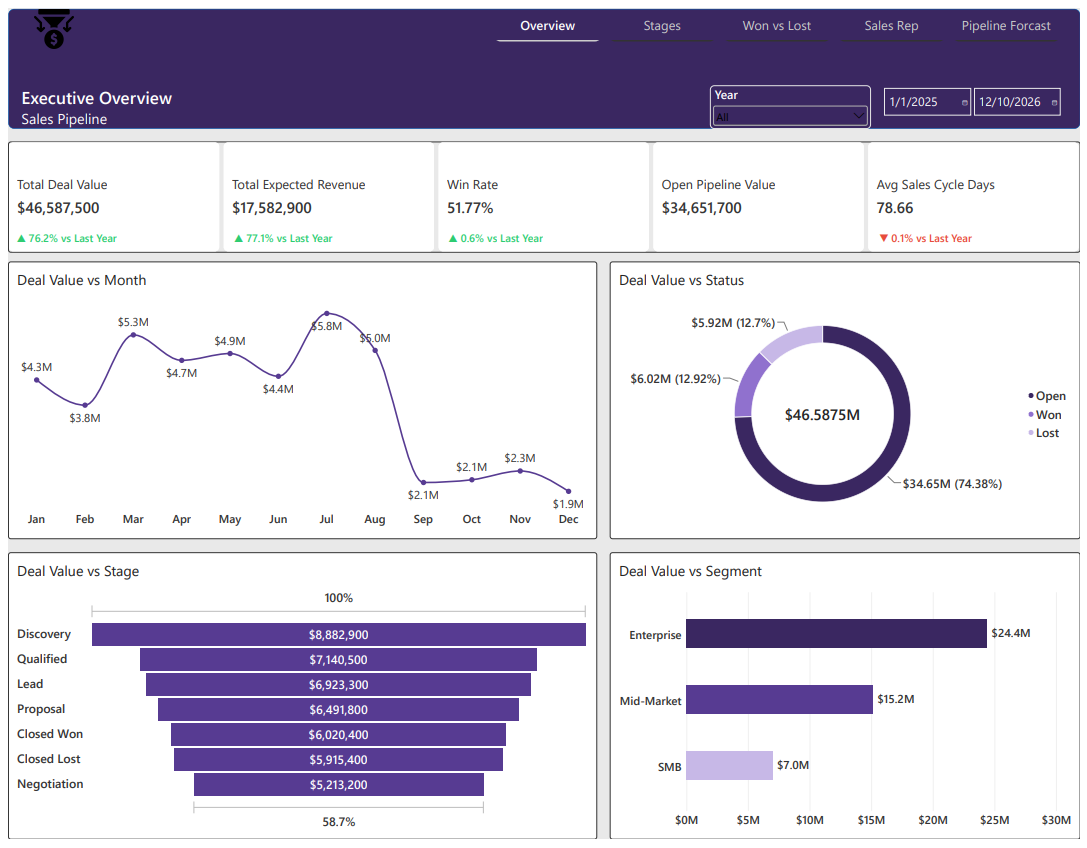

Layout of this report page (visuals, bound fields, positions):
{"tool":"powerbi","page":{"name":"Overview","canvas":[2000,1550],"ordinal":0},"visuals":[{"type":"shape","box":[0,0,2000.5,223.6],"z":0},{"type":"image","box":[0,2.5,169.6,71.3],"z":1000},{"type":"textbox","box":[24.6,142.5,464.5,81.1],"z":2000},{"type":"pageNavigator","box":[904.4,0,1064.2,61.4],"z":3000},{"type":"cardVisual","fields":{"Data":["Measure.Total Deal Value","Measure.Total Expected Revenue","Measure.Win Rate","Measure.Open Pipeline Value","Measure.Avg Sales Cycle Days"]},"box":[0,248.2,2000.5,206.4],"z":4000},{"type":"cardVisual","fields":{"Data":["Measure.Total Deal Value YoY % Change"]},"box":[0,398.1,292.5,56.5],"z":5000},{"type":"cardVisual","fields":{"Data":["Measure.Total Expected Revenue YoY % Change"]},"box":[405.5,398.1,292.5,56.5],"z":6000},{"type":"cardVisual","fields":{"Data":["Measure.Win Rate YoY % Change1"]},"box":[806.1,398.1,292.5,56.5],"z":7000},{"type":"cardVisual","fields":{"Data":["Measure.Avg Sales Cycle Days YoY % Change"]},"box":[1609.8,398.1,292.5,56.5],"z":8000},{"type":"lineChart","title":"Deal Value vs Month","fields":{"Category":["Calendar Table.Month_Short"],"Y":["Measure.Total Deal Value"]},"box":[0,471.9,1098.6,518.6],"z":9000},{"type":"donutChart","title":"Deal Value vs Status","fields":{"Category":["Sales_Pipeline.Deal_Status"],"Y":["Measure.Total Deal Value"]},"box":[1123.1,471.9,877.4,518.6],"z":10000},{"type":"funnel","title":"Deal Value vs Stage","fields":{"Category":["Sales_Pipeline.Deal_Stage"],"Y":["Measure.Total Deal Value"]},"box":[0,1015,1098.6,535.8],"z":11000},{"type":"barChart","title":"Deal Value vs Segment","fields":{"Category":["Sales_Pipeline.Customer_Segment"],"Y":["Measure.Total Deal Value"]},"box":[1123.1,1015,877.4,535.8],"z":12000},{"type":"slicer","fields":{"Values":["Calendar Table.Date"]},"box":[1627,142.5,341.6,61.4],"z":13000},{"type":"slicer","fields":{"Values":["Calendar Table.Year"]},"box":[1309.9,142.5,299.8,81.1],"z":13001}]}

Visuals, with their boxes in screenshot pixels (x1, y1, x2, y2), scaled from the page's 2000x1550 canvas onto the 1087x848 screenshot:
shape: (left=0, top=0, right=1086, bottom=122)
image: (left=0, top=1, right=92, bottom=40)
textbox: (left=13, top=78, right=266, bottom=122)
pageNavigator: (left=492, top=0, right=1070, bottom=34)
cardVisual - Measure.Total Deal Value x Measure.Total Expected Revenue: (left=0, top=136, right=1086, bottom=249)
cardVisual - Measure.Total Deal Value YoY % Change: (left=0, top=218, right=159, bottom=249)
cardVisual - Measure.Total Expected Revenue YoY % Change: (left=220, top=218, right=379, bottom=249)
cardVisual - Measure.Win Rate YoY % Change1: (left=438, top=218, right=597, bottom=249)
cardVisual - Measure.Avg Sales Cycle Days YoY % Change: (left=875, top=218, right=1034, bottom=249)
"Deal Value vs Month" lineChart: (left=0, top=258, right=597, bottom=542)
"Deal Value vs Status" donutChart: (left=610, top=258, right=1086, bottom=542)
"Deal Value vs Stage" funnel: (left=0, top=555, right=597, bottom=847)
"Deal Value vs Segment" barChart: (left=610, top=555, right=1086, bottom=847)
slicer - Calendar Table.Date: (left=884, top=78, right=1070, bottom=112)
slicer - Calendar Table.Year: (left=712, top=78, right=875, bottom=122)
